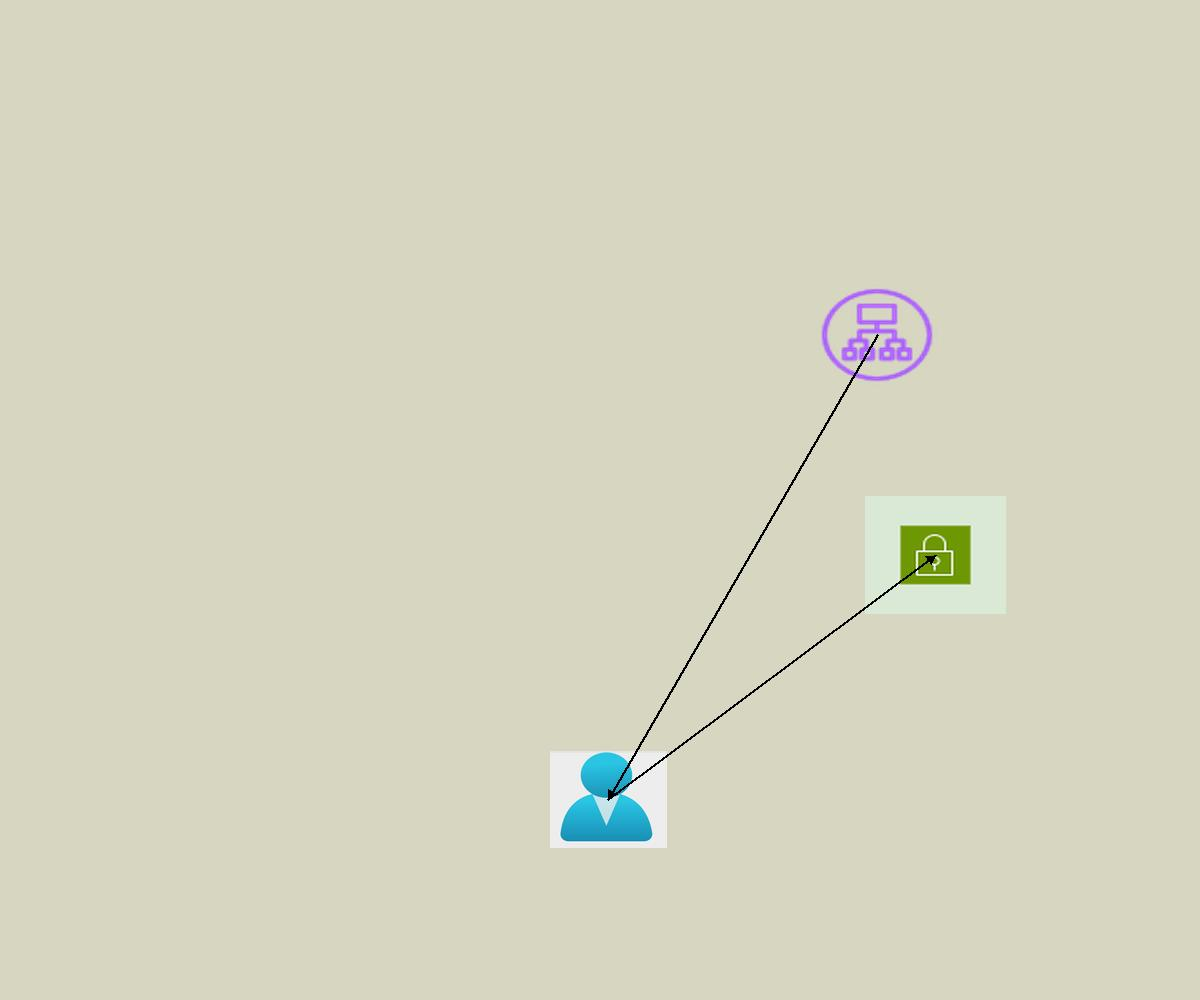AWS-Public-subnet: (865, 496, 1006, 614)
AWS-Res_Elastic-Load-Balancing_Application-Load-Balancer: (817, 285, 937, 385)
Azure_users: (550, 751, 667, 848)
